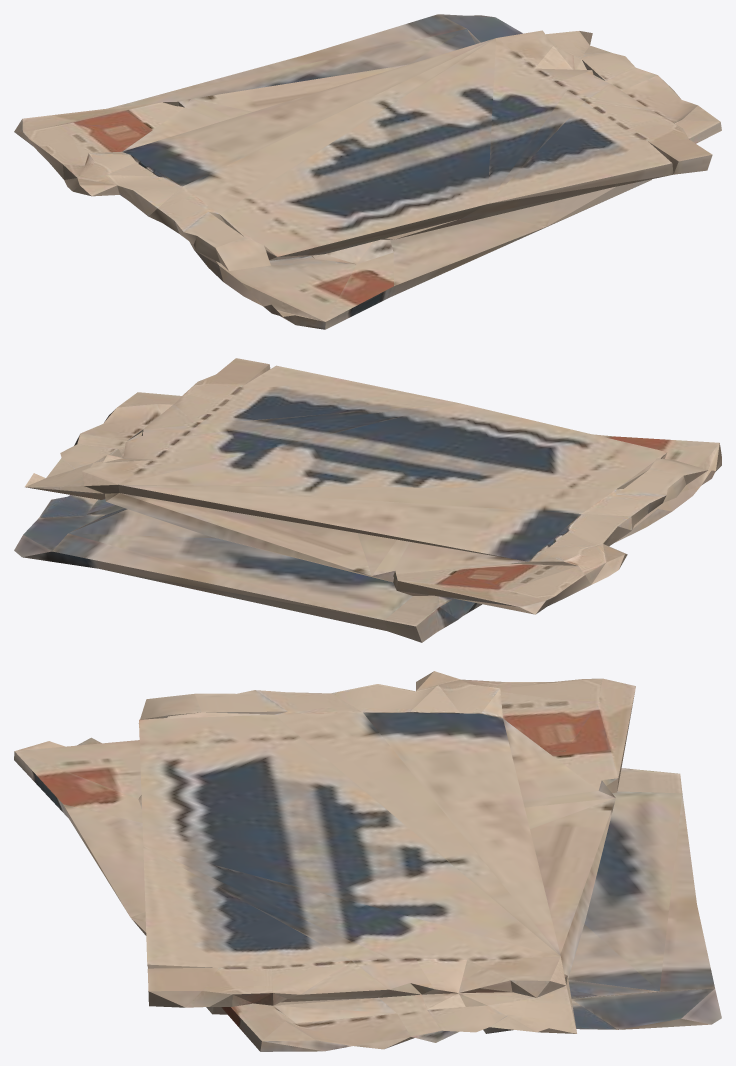
Rendered from tickets.glb.
3 views of the same model, one above another, from view 1: azimuth 30°, elevation 25°; view 2: azimuth 150°, elevation 25°; view 3: azimuth 270°, elevation 25° (orthographic). The views are drawn at different scales.
Bounding box in the file's own units: 1.89 × 0.1641 × 1.64.
Materials: 1 (1 with a texture image).
